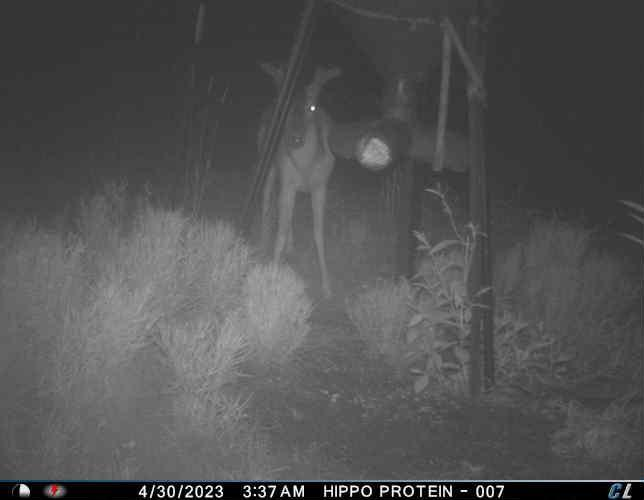Deer: (250, 53, 344, 302)
